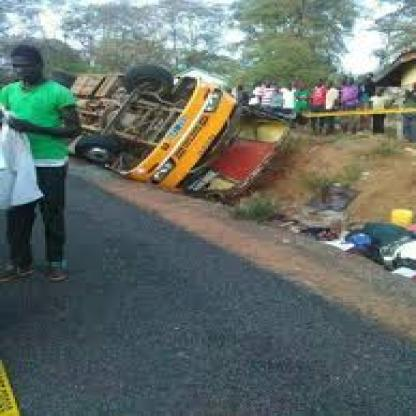accident: (49, 52, 304, 208)
